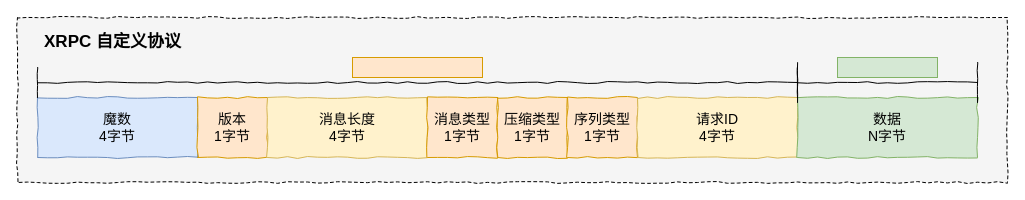
Some shapes in this 1025 by 200 pixel diagram are drawn without their labels. Here are the shapes that lost their labels. From the top down, the centre of each, then its label:
At [417,67]: "消息头固定16字节".
At [887,67]: "消息体 N字节".
